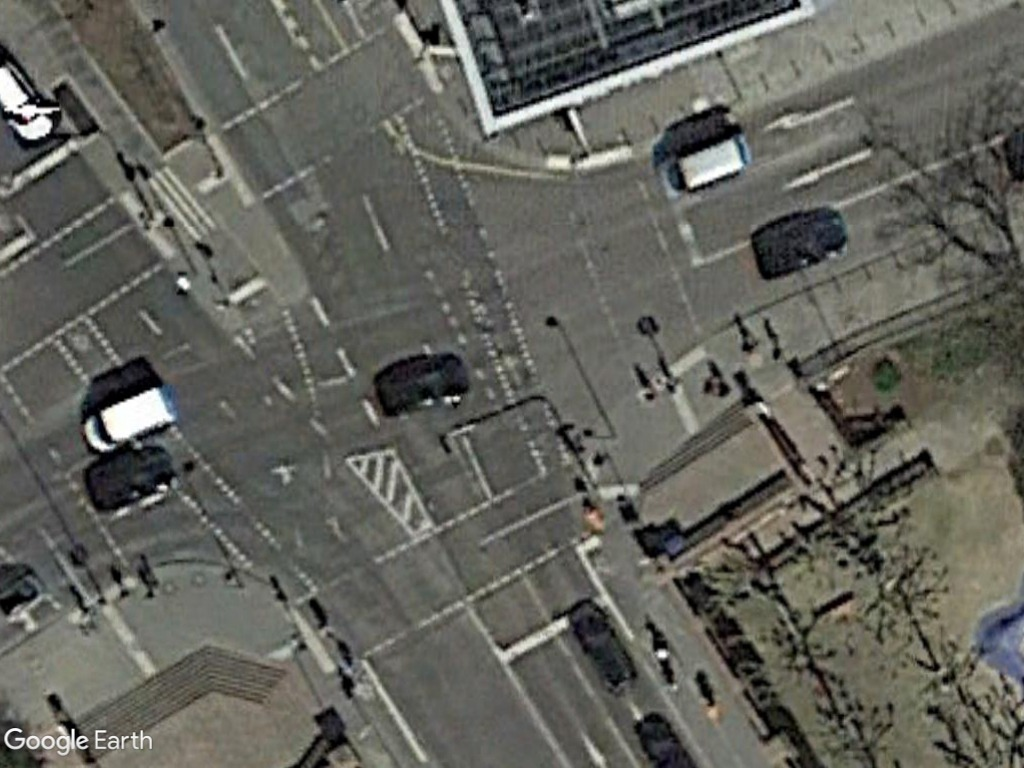van: (79, 381, 178, 457), (661, 129, 752, 200)
